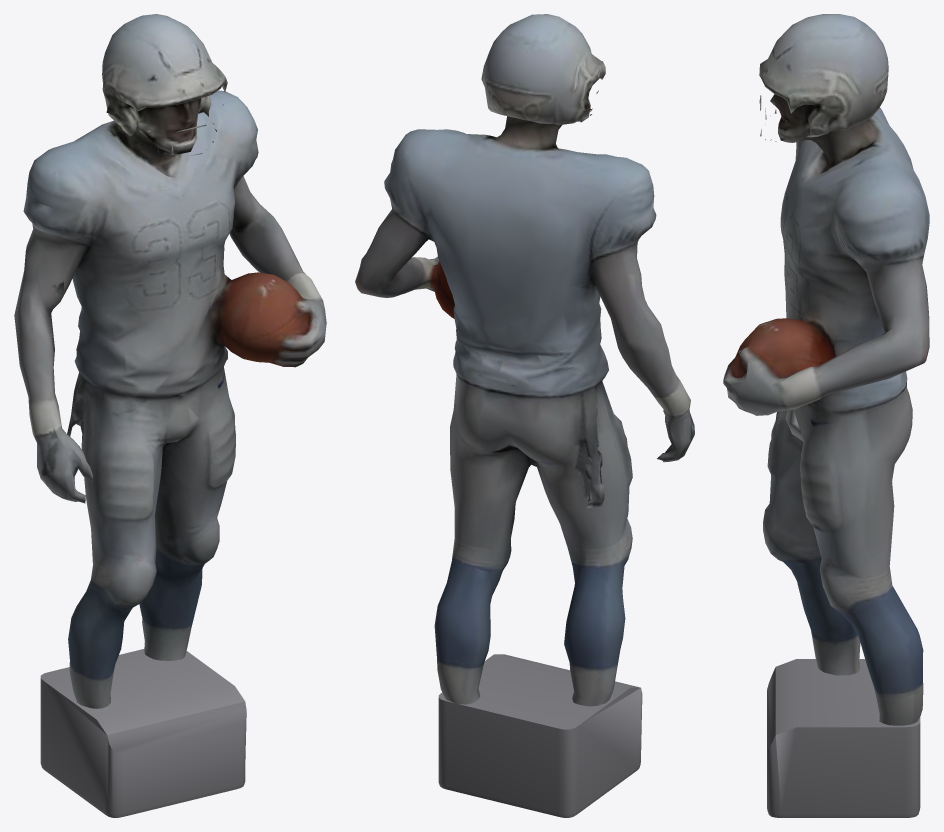
File: futbolista_alta.glb
3 views of the same model, side by side, from view 1: azimuth 30°, elevation 25°; view 2: azimuth 150°, elevation 25°; view 3: azimuth 270°, elevation 25° (orthographic). The views are drawn at different scales.
Parts seen in each view (by area): view 1: futbolista_americano_pie; view 2: futbolista_americano_pie; view 3: futbolista_americano_pie.
Part boxes in pixels (<box>): futbolista_americano_pie: <box>14,14,326,817</box>; futbolista_americano_pie: <box>355,14,694,817</box>; futbolista_americano_pie: <box>723,14,929,817</box>.
Size of the model in its own units: 0.7857 by 2 by 0.4842.
Materials: 2 (1 with a texture image).
